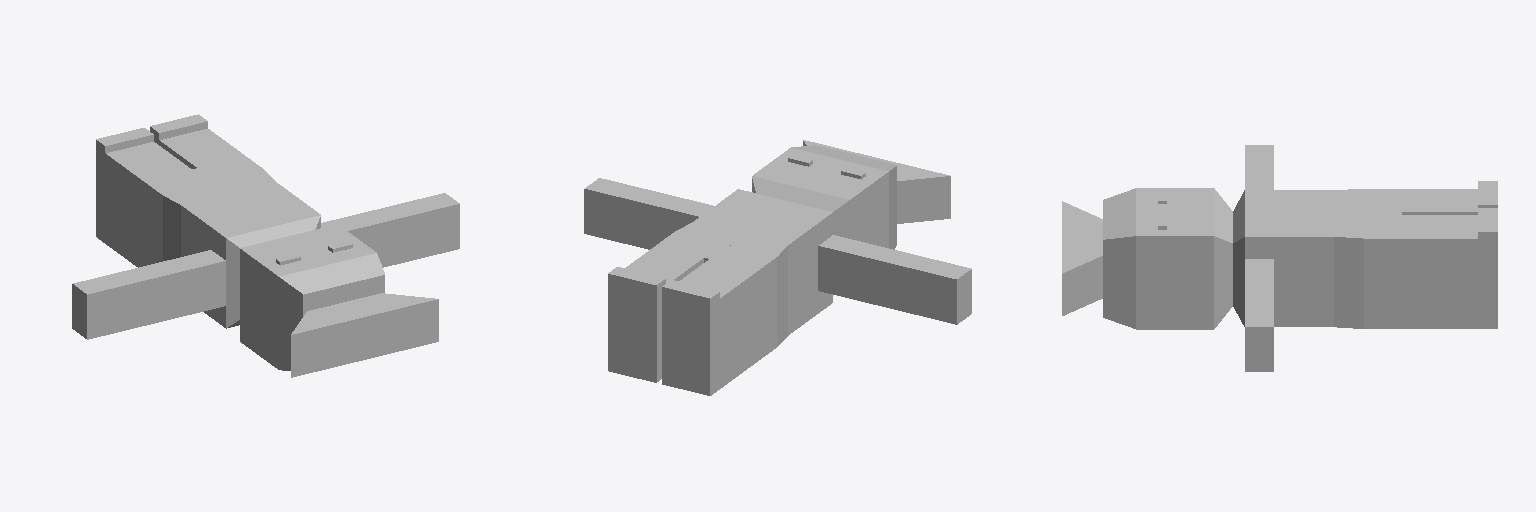
File: boss.obj
3 views of the same model, side by side, from view 1: azimuth 30°, elevation 25°; view 2: azimuth 150°, elevation 25°; view 3: azimuth 270°, elevation 25° (orthographic).
Parts seen in each view (by area): view 1: Arms, Legs, Head, Torso, Mohawk; view 2: Legs, Arms, Torso, Head, Mohawk; view 3: Legs, Head, Torso, Arms, Mohawk.
Boxes of the visible parts, <box> form: Arms: <box>72,193,459,339</box>; Legs: <box>96,114,263,267</box>; Head: <box>240,224,384,370</box>; Torso: <box>163,170,320,328</box>; Mohawk: <box>291,293,438,377</box>; Legs: <box>608,232,776,395</box>; Arms: <box>584,178,971,324</box>; Torso: <box>675,189,832,346</box>; Head: <box>752,145,896,255</box>; Mohawk: <box>803,140,950,223</box>; Legs: <box>1364,181,1497,328</box>; Head: <box>1103,188,1232,329</box>; Torso: <box>1233,189,1363,328</box>; Arms: <box>1245,145,1273,371</box>; Mohawk: <box>1062,201,1102,315</box>.
Bounding box in the file's own units: 11.38 × 2.89 × 11.51.